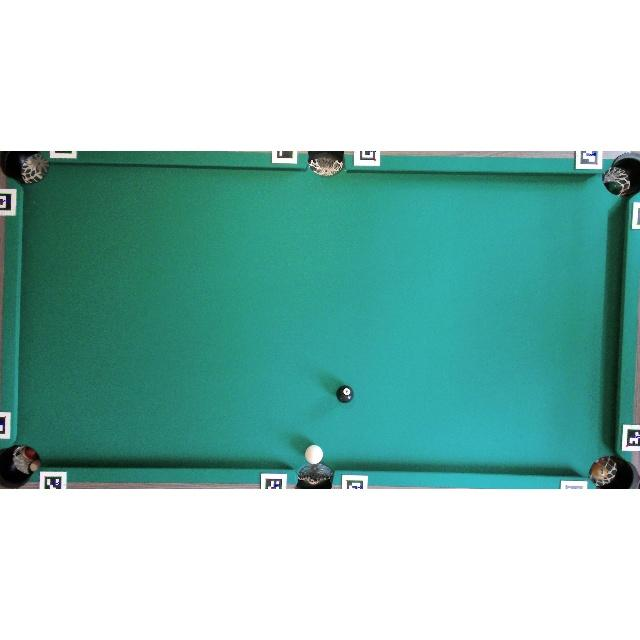cue ball: (304, 444, 324, 464)
other: (336, 385, 354, 403)
